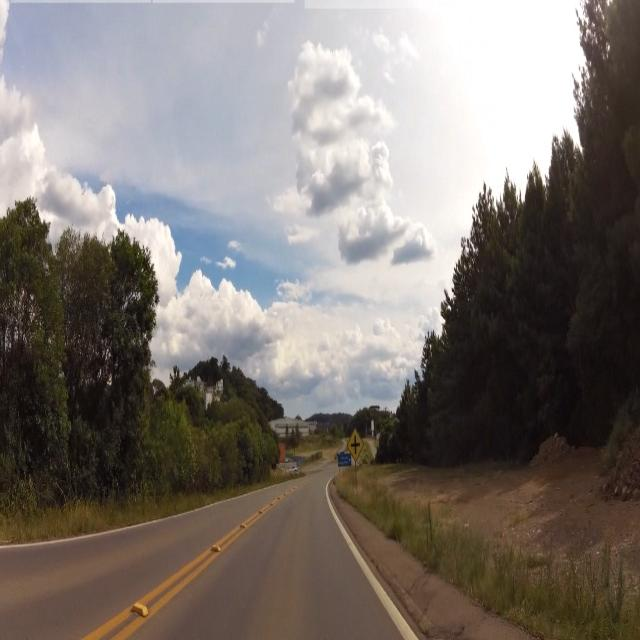A-6: (345, 427, 367, 462)
